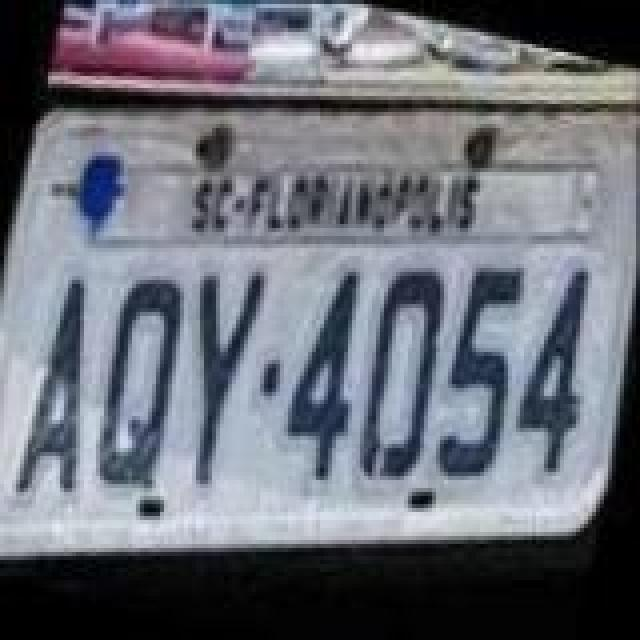4: (272, 256, 388, 484), (508, 258, 616, 478)
5: (422, 254, 542, 490)
A: (12, 270, 124, 506)
O: (344, 254, 468, 490)
Q: (78, 264, 202, 496)
Y: (156, 260, 272, 492)
